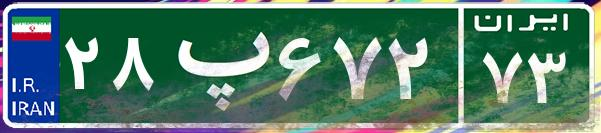2: (385, 28, 445, 110), (57, 26, 110, 107)
3: (525, 38, 570, 115)
6: (273, 28, 330, 110)
7: (330, 28, 385, 110), (475, 38, 525, 113)
8: (110, 28, 158, 105)
پ: (158, 15, 273, 115)
